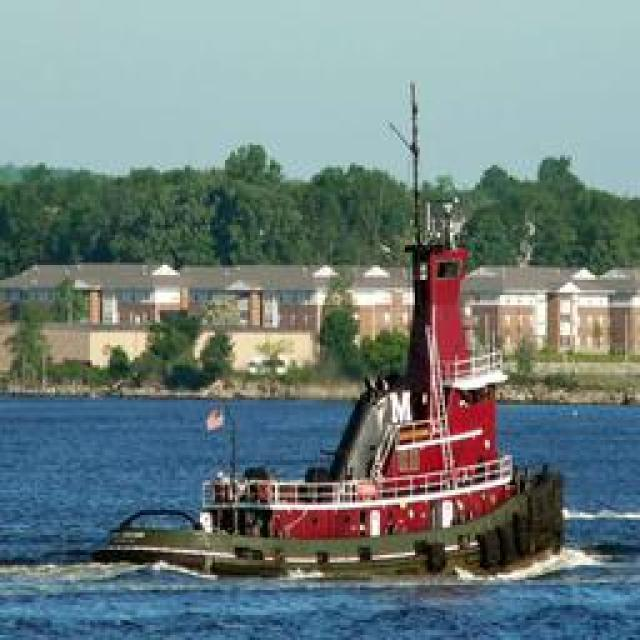CIV_Ship: (128, 216, 560, 582)
